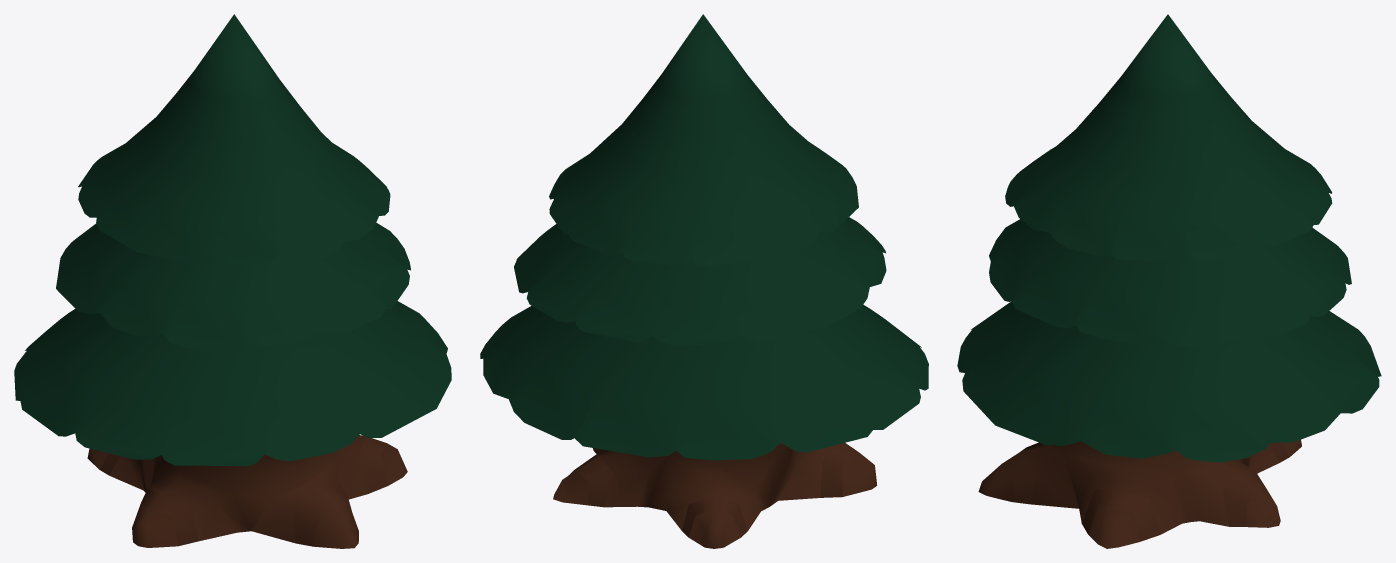
The model's file is 겨울 상록수.fbx.
The picture shows the model from 3 angles, left to right: view 1: azimuth 30°, elevation 25°; view 2: azimuth 150°, elevation 25°; view 3: azimuth 270°, elevation 25°; orthographic projection.
Parts seen in each view (by area): view 1: Sphere067, Sphere065, Sphere066, Cylinder042; view 2: Sphere067, Sphere065, Sphere066, Cylinder042; view 3: Sphere067, Sphere065, Sphere066, Cylinder042.
Part boxes in pixels (<box>): Sphere067: <box>14,301,451,466</box>; Sphere065: <box>78,14,390,263</box>; Sphere066: <box>56,222,410,351</box>; Cylinder042: <box>87,435,407,548</box>; Sphere067: <box>480,304,928,460</box>; Sphere065: <box>549,14,858,266</box>; Sphere066: <box>514,217,886,345</box>; Cylinder042: <box>553,443,877,548</box>; Sphere067: <box>957,301,1381,462</box>; Sphere065: <box>1005,14,1332,261</box>; Sphere066: <box>989,219,1351,346</box>; Cylinder042: <box>978,439,1301,548</box>.
Bounding box in the file's own units: 38.79 × 44.64 × 36.84.
